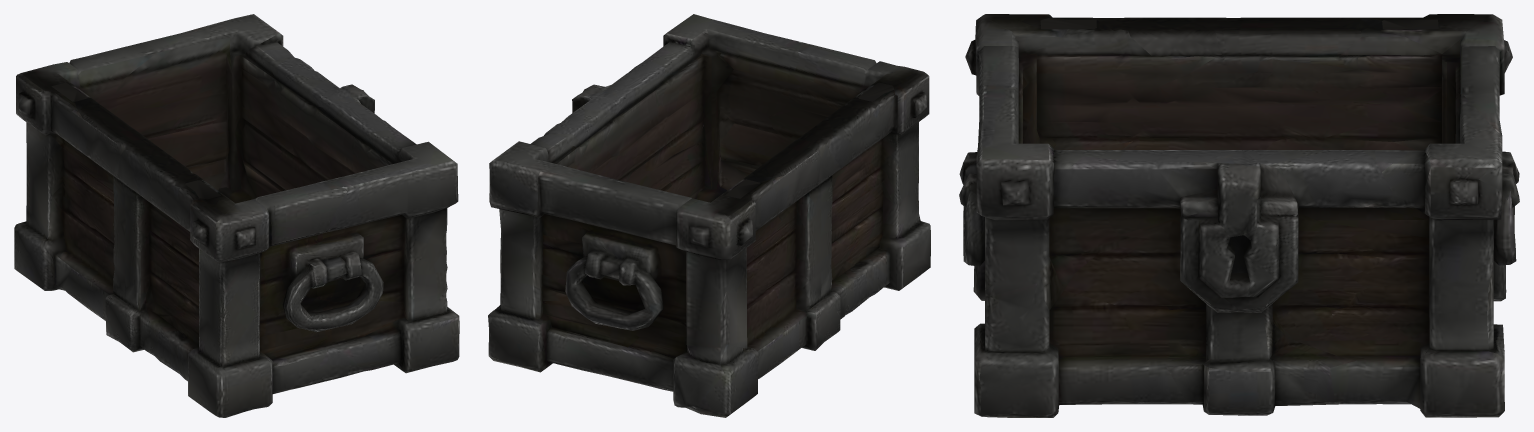
Rendered from Chest_bottom.fbx.
The picture shows the model from 3 angles, left to right: view 1: azimuth 30°, elevation 25°; view 2: azimuth 150°, elevation 25°; view 3: azimuth 270°, elevation 25°; orthographic projection. The views are drawn at different scales.
Visible parts, largest first — view 1: Chest_Bottom; view 2: Chest_Bottom; view 3: Chest_Bottom.
Part boxes in pixels (<box>): Chest_Bottom: <box>14,14,459,417</box>; Chest_Bottom: <box>488,14,930,417</box>; Chest_Bottom: <box>959,14,1519,417</box>.
Bounding box in the file's own units: 63.58 × 46.72 × 91.61.
Materials: 1 (1 with a texture image).
